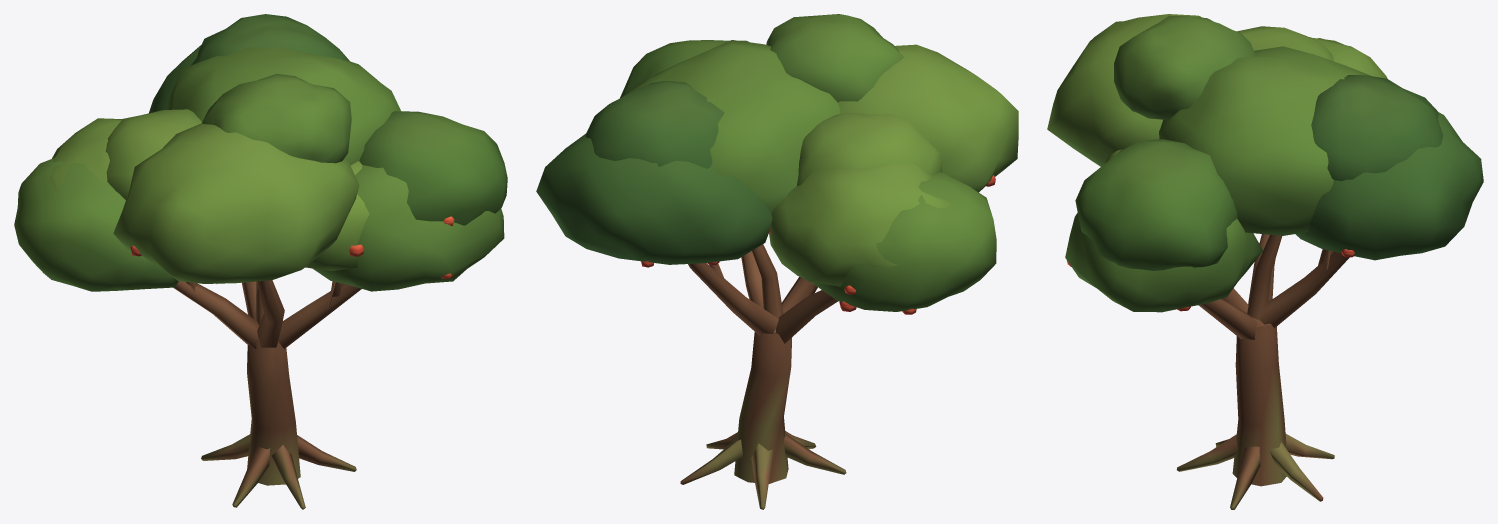
File: apple_tree_mature.glb
3 renders of one model, left to right at view 1: azimuth 30°, elevation 25°; view 2: azimuth 150°, elevation 25°; view 3: azimuth 270°, elevation 25°, orthographic. The views are drawn at different scales.
Visible parts, largest first — view 1: orchard_apple_tree_mature_Canopy, orchard_apple_tree_mature_Trunk; view 2: orchard_apple_tree_mature_Canopy, orchard_apple_tree_mature_Trunk; view 3: orchard_apple_tree_mature_Canopy, orchard_apple_tree_mature_Trunk.
Boxes of the visible parts, x1,y1,x2,y2 form: orchard_apple_tree_mature_Canopy: (14,14,507,291); orchard_apple_tree_mature_Trunk: (173,280,361,509); orchard_apple_tree_mature_Canopy: (536,14,1018,311); orchard_apple_tree_mature_Trunk: (680,244,846,509); orchard_apple_tree_mature_Canopy: (1047,14,1483,312); orchard_apple_tree_mature_Trunk: (1176,234,1349,509).
Bounding box in the file's own units: 4.72 × 4.68 × 4.24.
